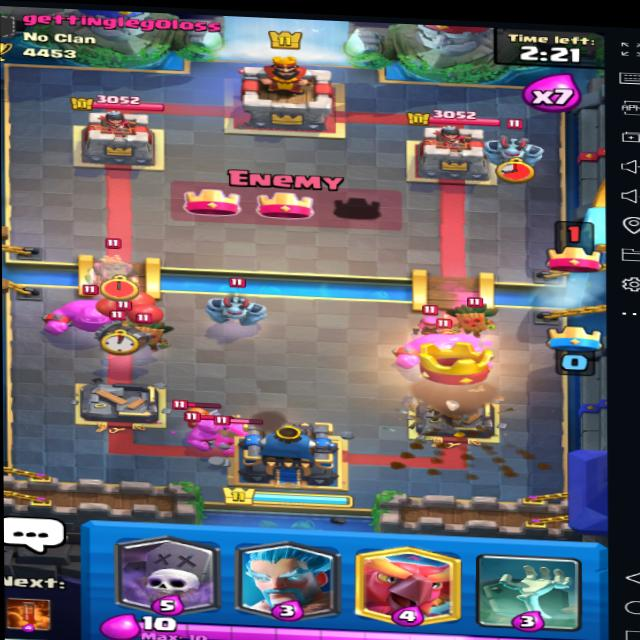dart-goblin: (129, 314, 174, 357), (451, 300, 501, 338)
electro-golem: (33, 289, 139, 349), (399, 320, 510, 377), (198, 410, 265, 453), (164, 410, 220, 450), (414, 304, 458, 337)
mega-minion: (471, 113, 557, 174), (200, 289, 264, 332)
royal-ghost: (85, 234, 143, 284)
valkyrie: (151, 401, 194, 432)
